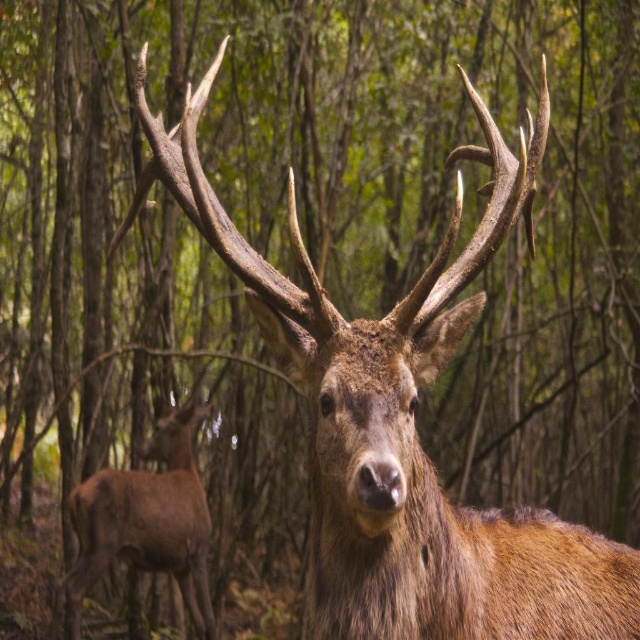Deer: (133, 35, 640, 639), (49, 393, 216, 639)
